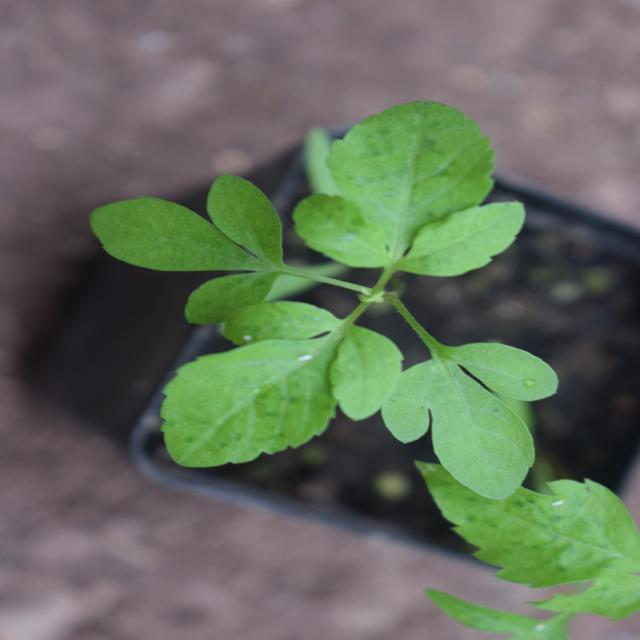Bidens pilosa: (99, 83, 492, 539)
